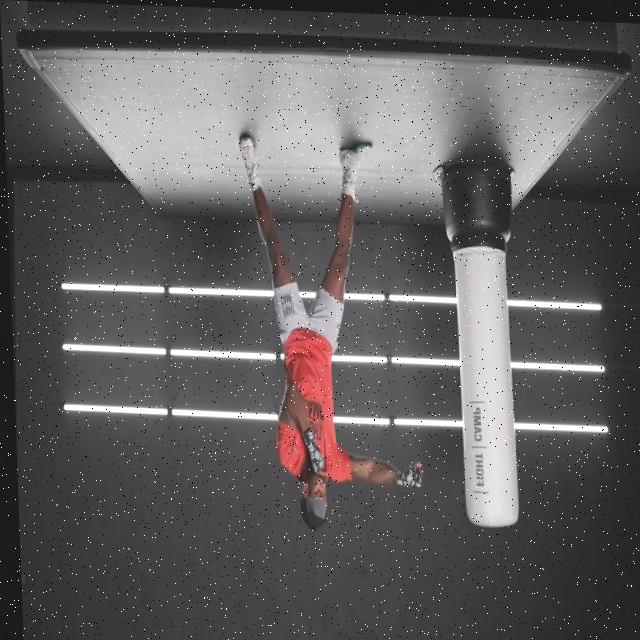Jab: (254, 128, 425, 495)
